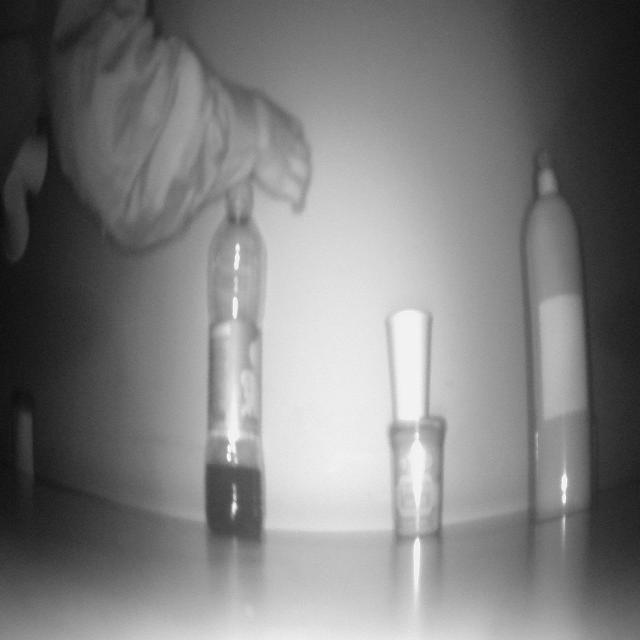targets: (521, 140, 592, 530), (200, 181, 268, 545), (391, 414, 448, 534), (386, 305, 434, 421)
